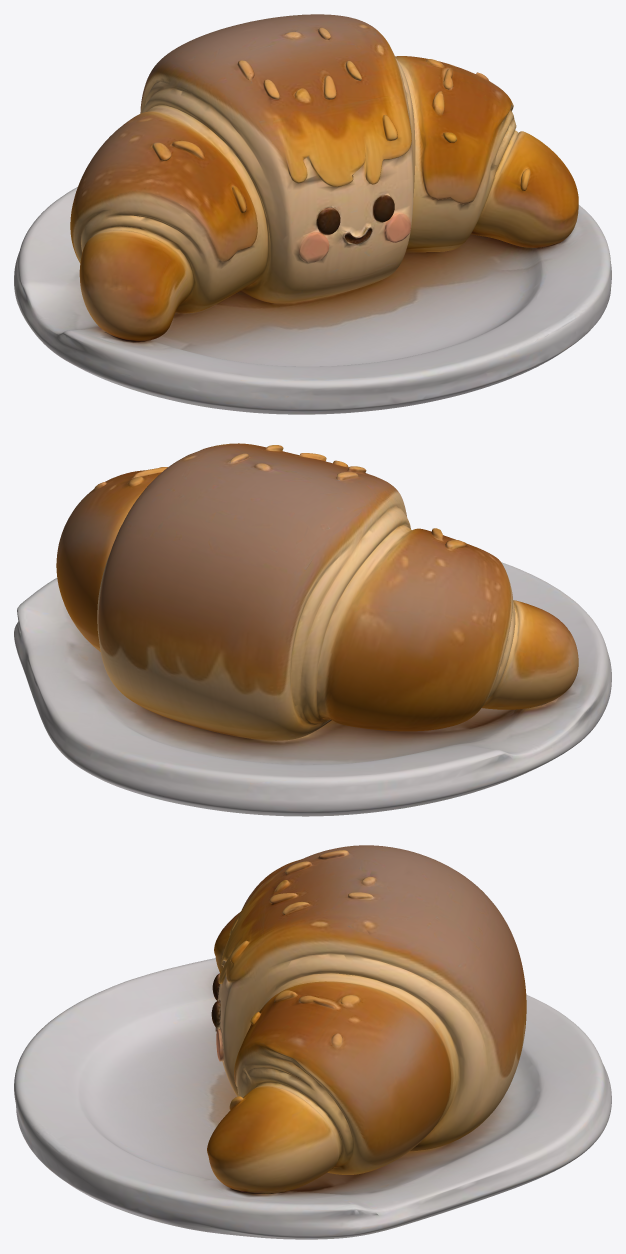
The model's file is croissant.glb.
3 views of the same model, one above another, from view 1: azimuth 30°, elevation 25°; view 2: azimuth 150°, elevation 25°; view 3: azimuth 270°, elevation 25° (orthographic). The views are drawn at different scales.
Visible parts, largest first — view 1: node_0; view 2: node_0; view 3: node_0.
Boxes of the visible parts, bbox=[...] form: node_0: bbox=[14, 14, 611, 414]; node_0: bbox=[14, 443, 611, 816]; node_0: bbox=[14, 845, 611, 1239].
Size of the model in its own units: 1.12 by 0.5237 by 1.09.
1 material, 1 textured.
